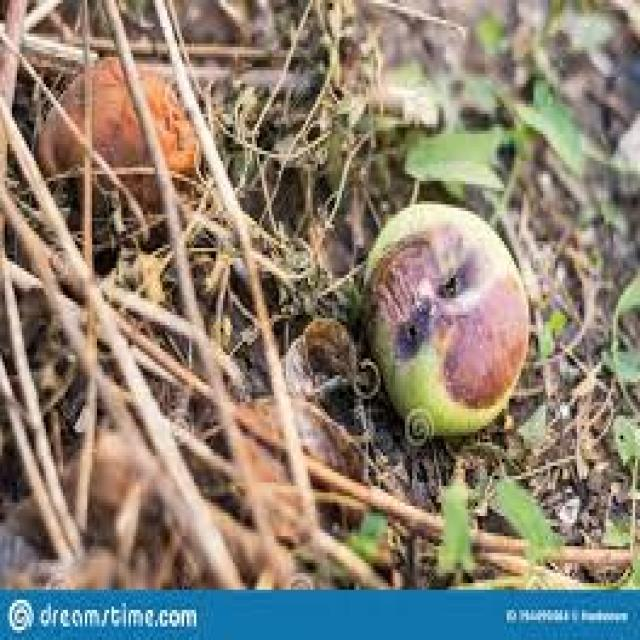organic waste: (364, 198, 524, 439), (19, 436, 257, 576), (36, 54, 199, 228), (208, 396, 371, 540)
